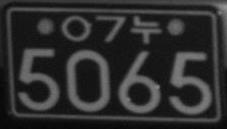0: (65, 48, 110, 113), (61, 15, 91, 42)
5: (168, 51, 212, 116), (17, 47, 60, 111)
6: (117, 50, 161, 114)
7: (95, 14, 126, 42)
누: (130, 14, 162, 44)
